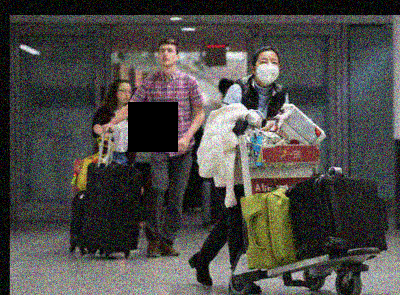with_mask: (255, 55, 280, 84)
without_mask: (158, 45, 177, 68), (115, 84, 133, 104)
